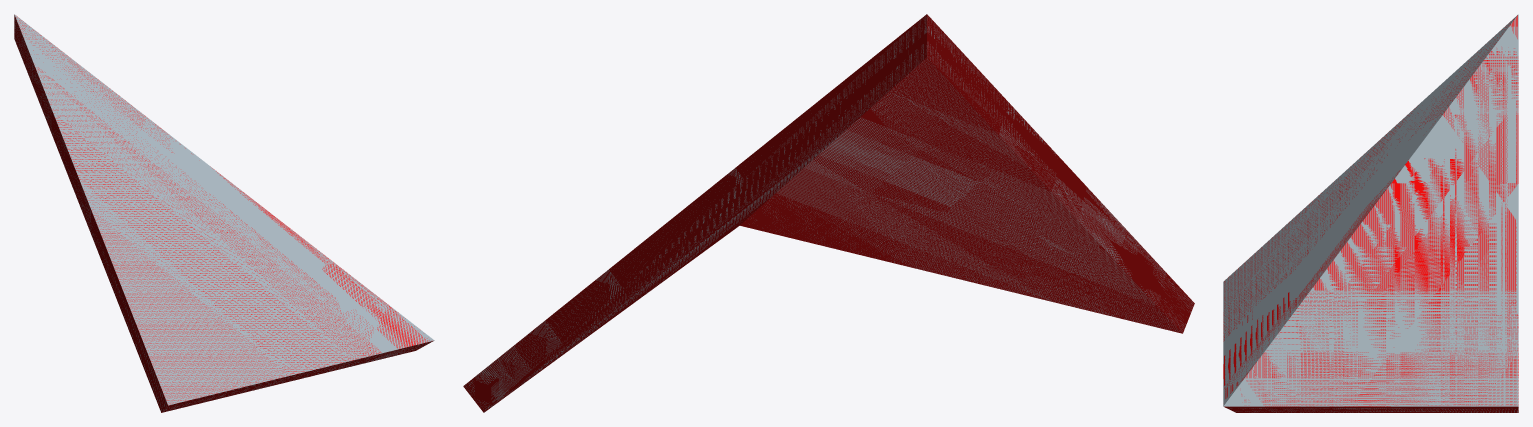
Rendered from roof_corner_outer.fbx.
3 views of the same model, side by side, from view 1: azimuth 30°, elevation 25°; view 2: azimuth 150°, elevation 25°; view 3: azimuth 270°, elevation 25° (orthographic). The views are drawn at different scales.
Parts seen in each view (by area): view 1: Mesh1_CORNER_1_1 Model; view 2: Mesh1_CORNER_1_1 Model; view 3: Mesh1_CORNER_1_1 Model.
Boxes of the visible parts, <box> form: Mesh1_CORNER_1_1 Model: <box>14,14,434,412</box>; Mesh1_CORNER_1_1 Model: <box>463,14,1194,412</box>; Mesh1_CORNER_1_1 Model: <box>1223,14,1518,412</box>.
Size of the model in its own units: 1.12 by 1.17 by 1.12.
